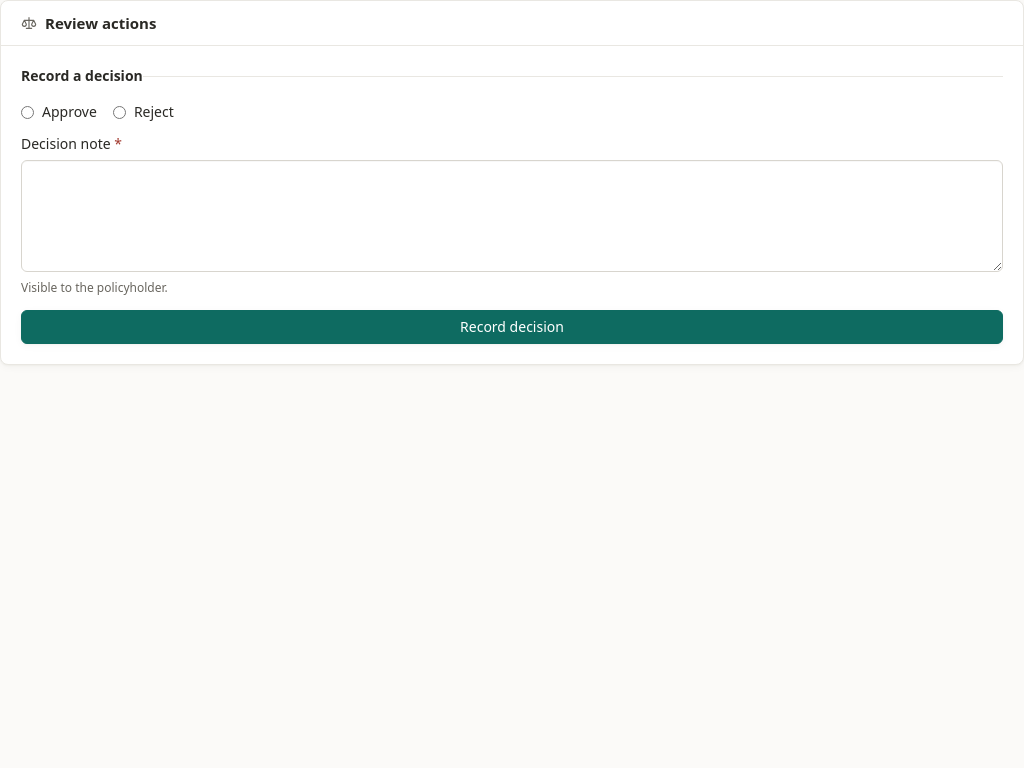
Test case: StaffReviewPanel › confirms a decision and sends the version the user saw
Step 1. Click the radio button with test id "decision-approved" → (28,112), box [21,106,34,118]
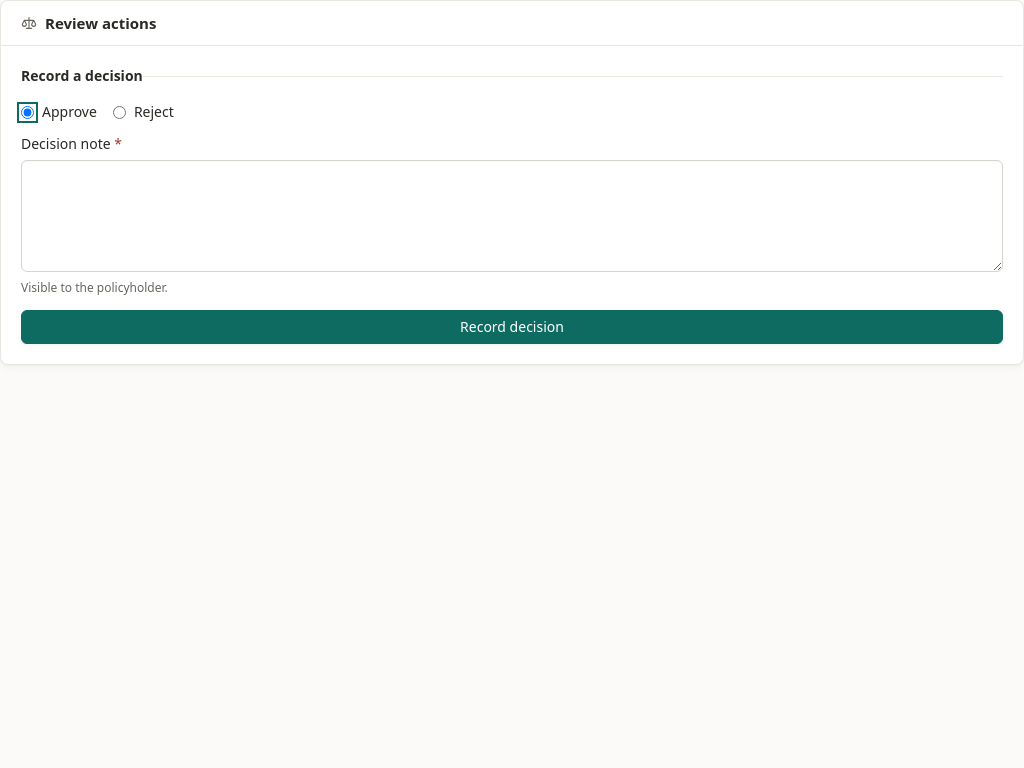
Step 2. Type "Photos and invoice reviewed." into the text box with test id "decision-reason" → (512,216), box [21,160,1003,272]
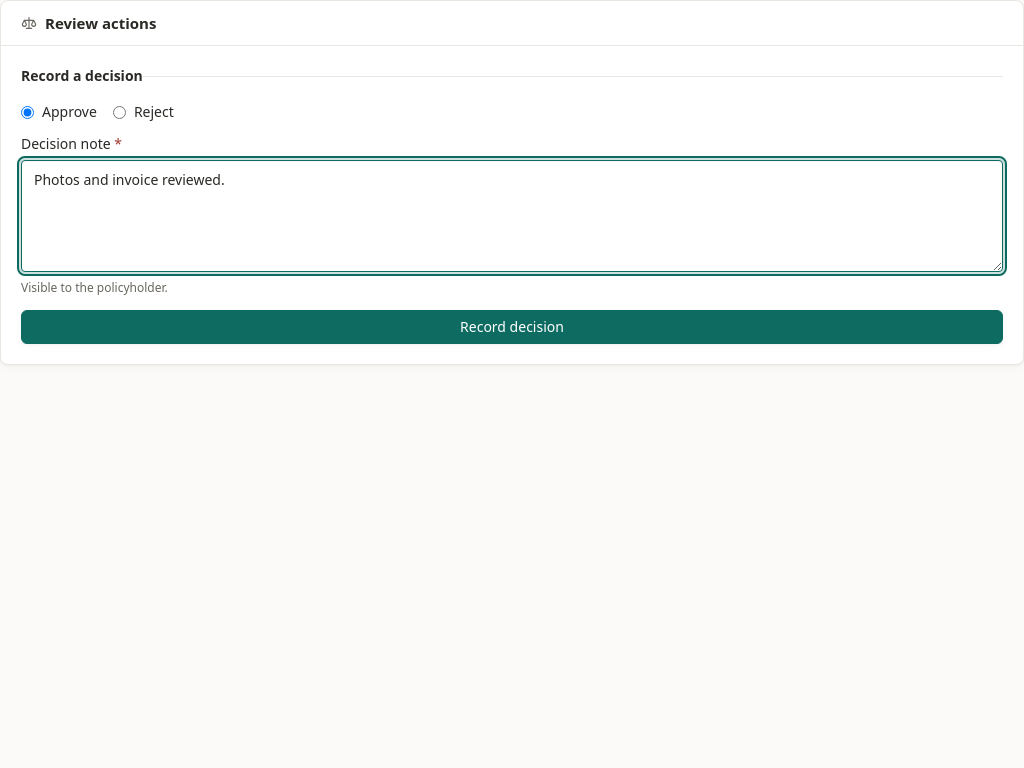
Step 3. Click the button with test id "action-decide" → (512,326), box [21,310,1003,344]
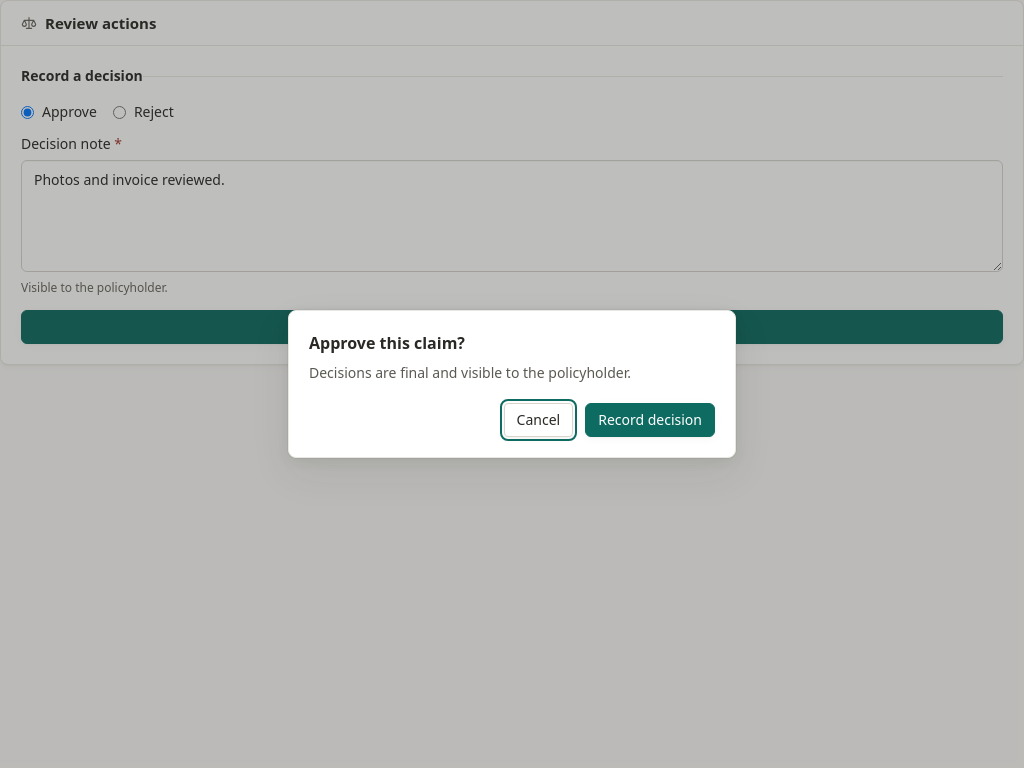
expect the dialog shows "Approve this claim?": met, box [309,332,465,354]
Step 4. Click the button with test id "confirm-action" → (650,420), box [585,403,715,437]
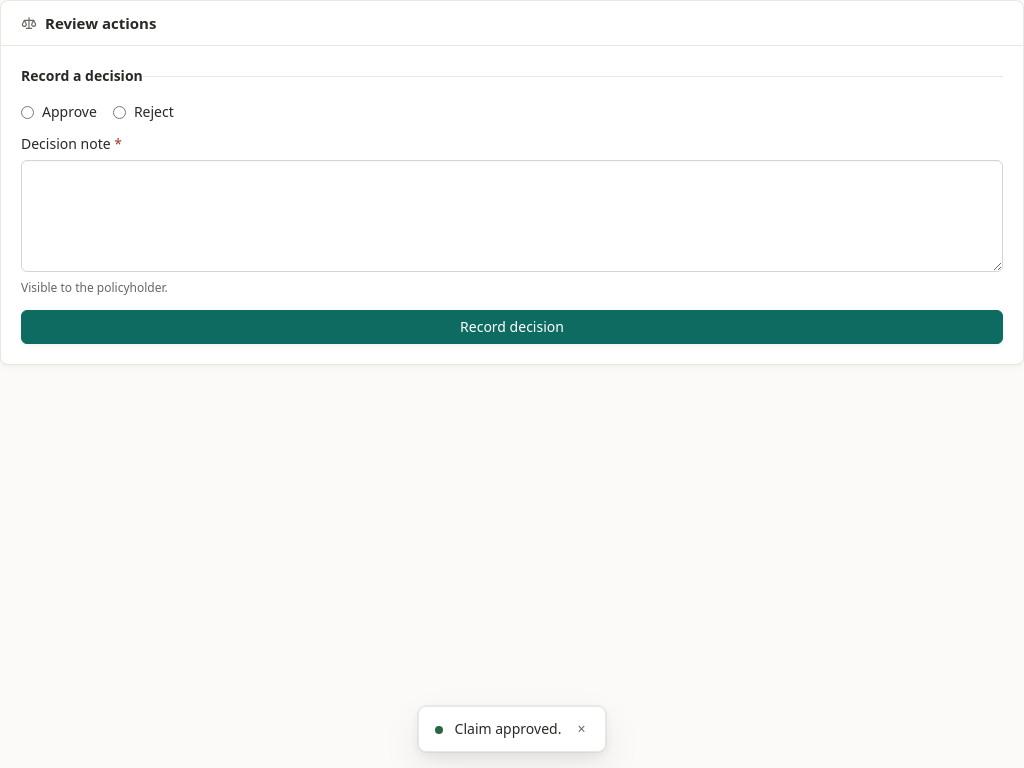
expect the text "Claim approved." is shown: met, box [455,719,561,739]
